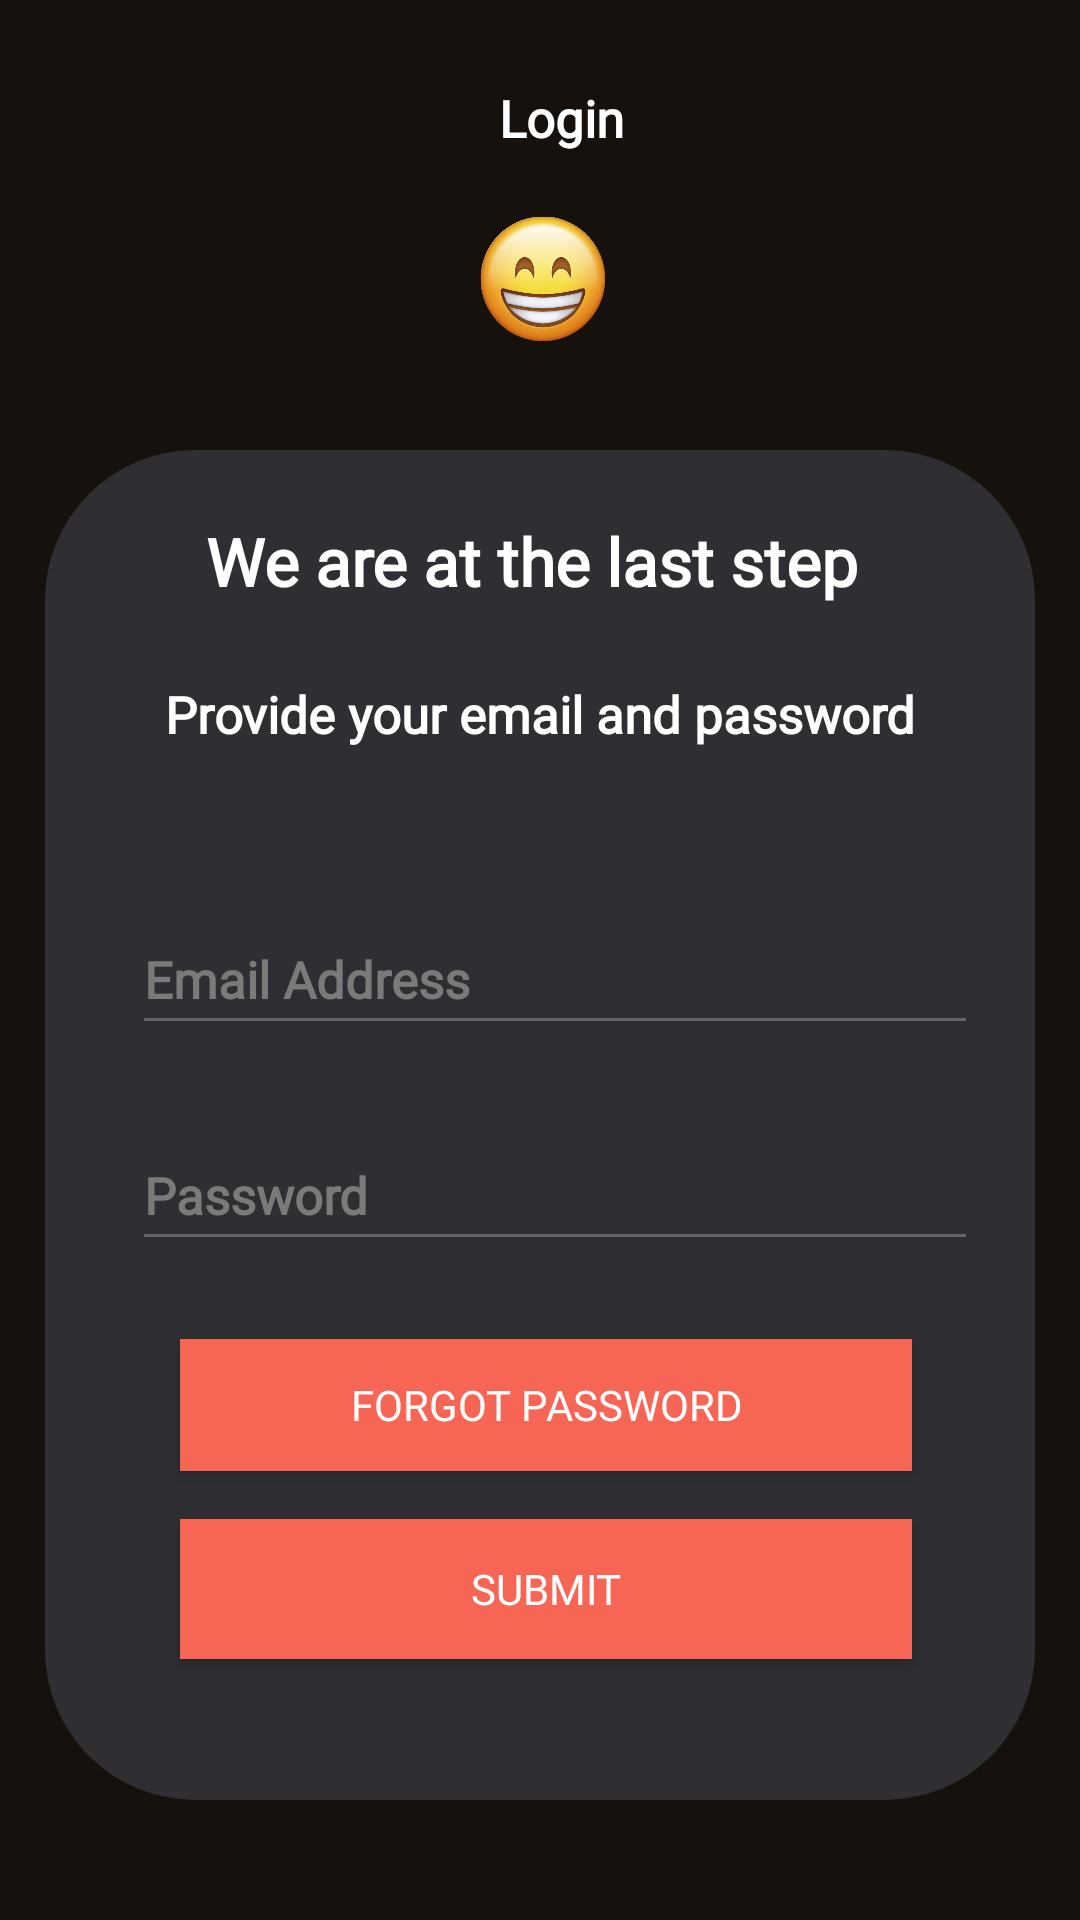

Screen size 1080×1920. Icon name, then its box in pixels as (x1=x1, y1=y1, x2=x2, y2=y2):
happyface: (x1=480, y1=217, x2=605, y2=341)
